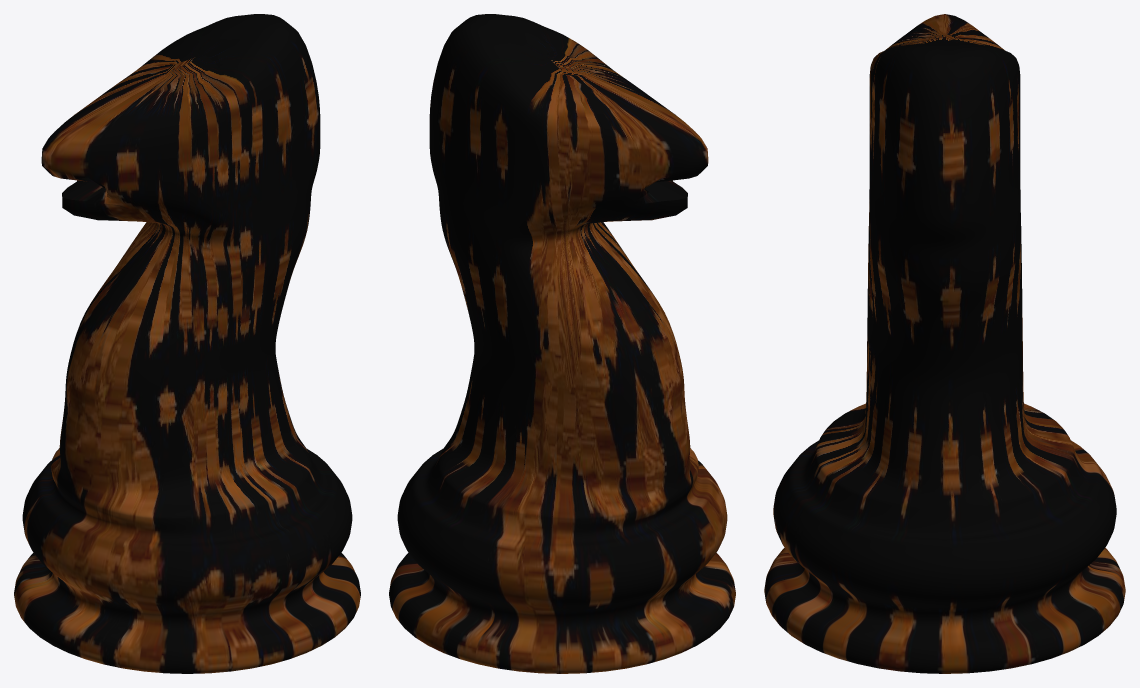
The model's file is knight_dark.obj.
3 views of the same model, side by side, from view 1: azimuth 30°, elevation 25°; view 2: azimuth 150°, elevation 25°; view 3: azimuth 270°, elevation 25° (orthographic). The views are drawn at different scales.
Parts seen in each view (by area): view 1: mesh01; view 2: mesh01; view 3: mesh01.
Part boxes in pixels (x1,y1,x2,y2): mesh01: (14, 14, 360, 673); mesh01: (389, 14, 735, 673); mesh01: (764, 14, 1125, 673).
Bounding box in the file's own units: 11.28 × 20.35 × 11.28.
Materials: 1 (1 with a texture image).
